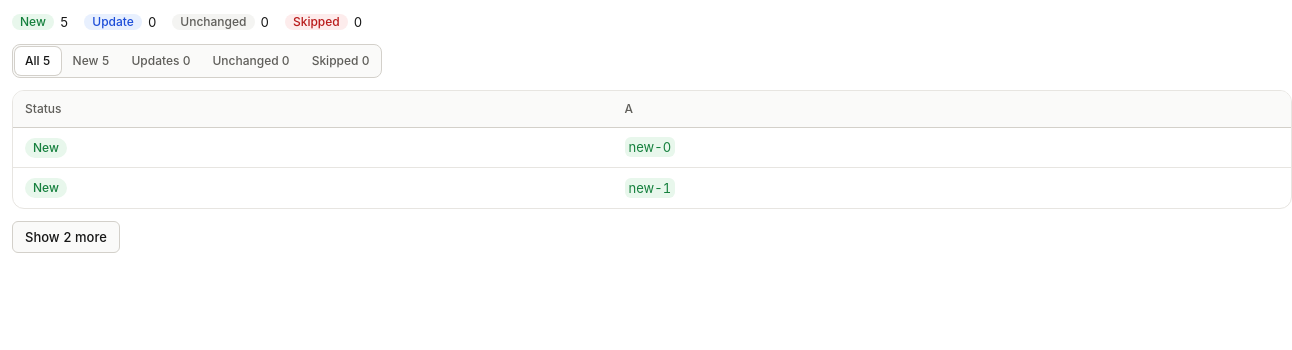
Test: Show more paging › pages through the rows by the page size, and the button says how many are next
This screenshot has width=1292, height=350.
Click the button "Show 2 more": {"x": 66, "y": 236} [12,220,120,252]
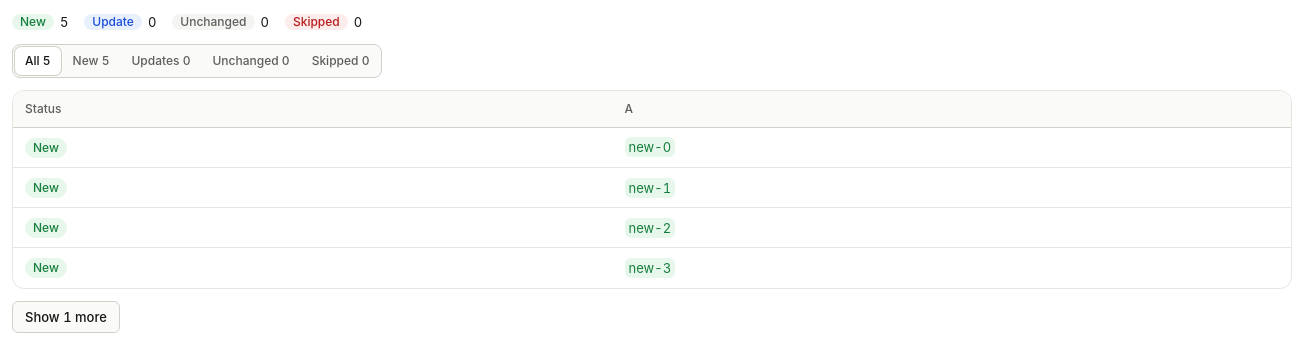
Click the button "Show 1 more": {"x": 66, "y": 316} [12,300,120,332]
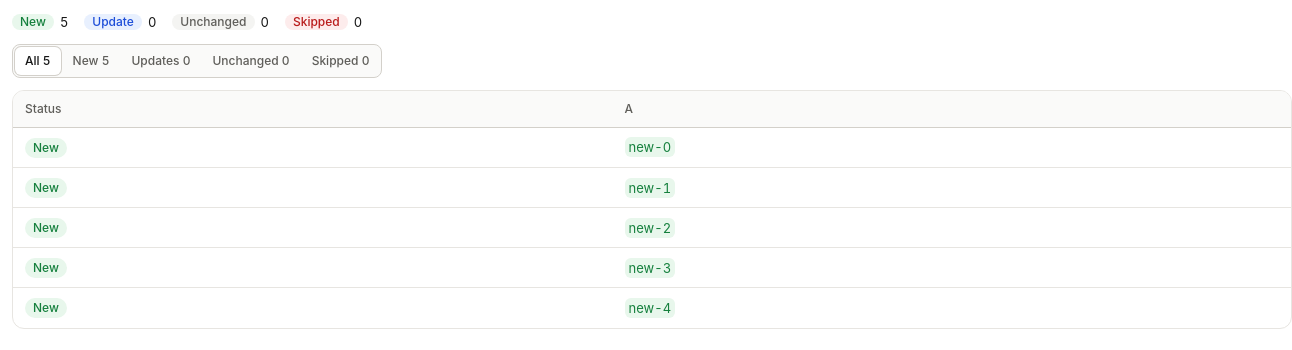
Expected: the button "Show 1 more" is gone
